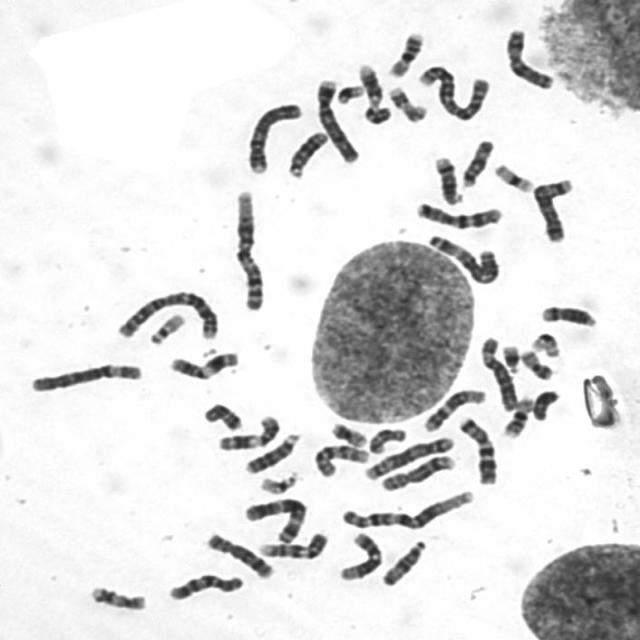A1: (336, 485, 477, 531), (230, 185, 268, 312)
A2: (111, 286, 222, 342), (412, 59, 492, 122)
A3: (423, 228, 503, 286), (239, 493, 309, 544)
B4: (242, 98, 305, 175), (310, 74, 363, 164)
B5: (360, 431, 457, 482), (526, 173, 576, 244)
C10: (163, 568, 246, 602), (309, 438, 372, 478)
C11: (213, 410, 283, 452), (164, 346, 241, 382)
C12: (419, 384, 488, 433), (334, 528, 384, 582)
C6: (25, 357, 144, 394), (475, 331, 520, 412)
C7: (454, 411, 500, 486), (411, 196, 505, 230)
C8: (201, 528, 276, 580), (376, 450, 458, 492)
C9: (254, 526, 333, 560), (354, 58, 392, 125)
D13: (240, 429, 302, 475), (283, 126, 330, 180)
D14: (429, 150, 465, 207), (537, 299, 599, 329)
D15: (376, 535, 429, 587), (457, 134, 497, 189)
E16: (384, 26, 426, 80), (498, 392, 536, 438)
E17: (85, 580, 150, 612), (384, 81, 430, 123)
E18: (198, 397, 244, 432), (365, 422, 409, 456)
F19: (490, 158, 536, 194), (527, 328, 563, 358)
F20: (516, 345, 556, 381), (325, 418, 369, 448)
G21: (332, 79, 366, 105), (497, 339, 522, 374)
G22: (144, 308, 188, 345), (255, 469, 301, 496)
X: (501, 22, 556, 92)
Y: (528, 384, 563, 422)
